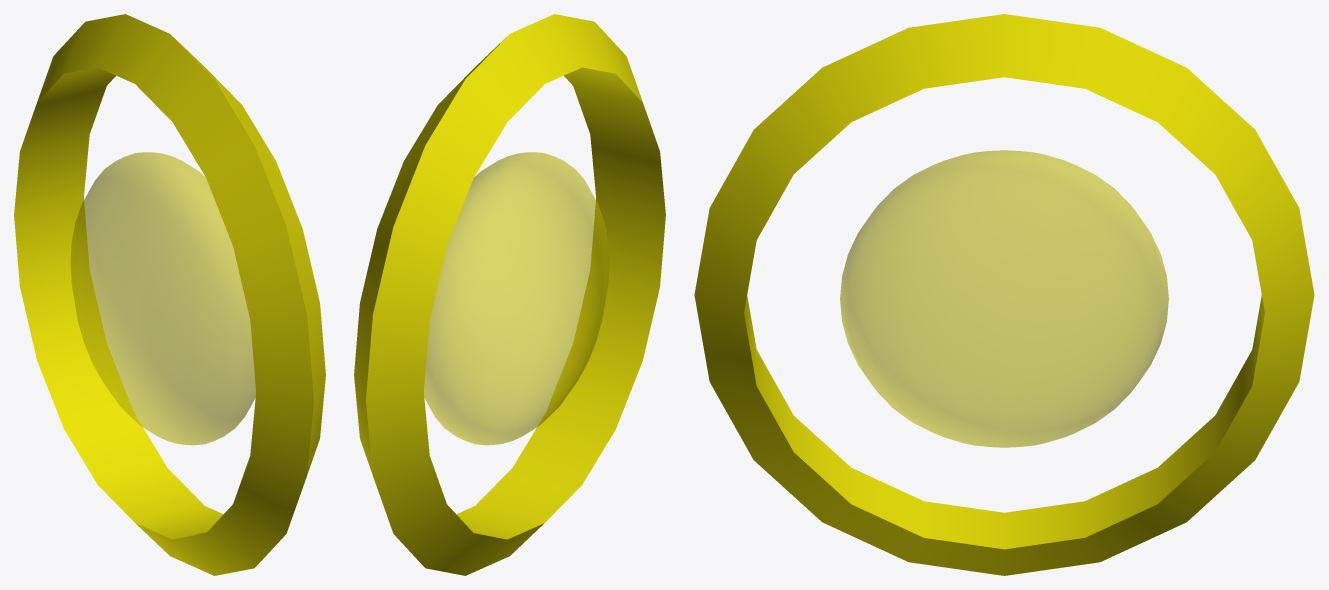
The model's file is powerup_bubble.fbx.
The picture shows the model from 3 angles, left to right: view 1: azimuth 30°, elevation 25°; view 2: azimuth 150°, elevation 25°; view 3: azimuth 270°, elevation 25°; orthographic projection. The views are drawn at different scales.
Parts seen in each view (by area): view 1: powerup_circle, pSphere1; view 2: powerup_circle, pSphere1; view 3: powerup_circle, pSphere1.
Part boxes in pixels (<box>): powerup_circle: <box>14,14,325,575</box>; pSphere1: <box>70,152,255,445</box>; powerup_circle: <box>354,14,665,575</box>; pSphere1: <box>424,152,609,445</box>; powerup_circle: <box>694,14,1314,575</box>; pSphere1: <box>840,150,1168,447</box>.
Bounding box in the file's own units: 1.36 × 5.28 × 5.28.
